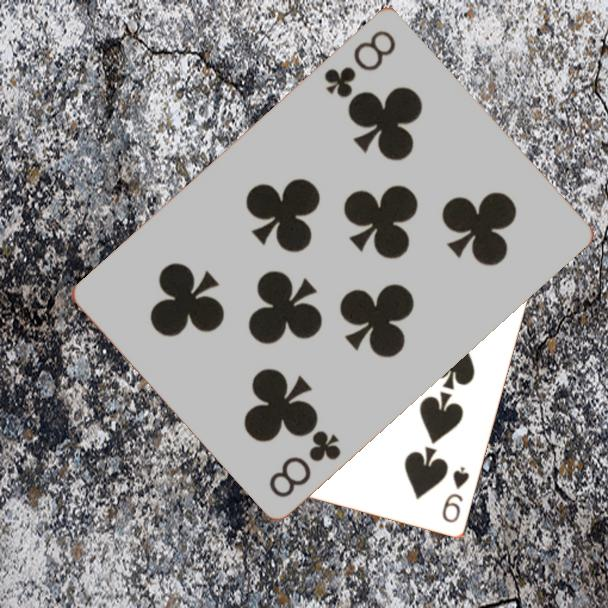c08: (320, 26, 399, 101), (265, 426, 344, 500)
s09: (439, 463, 472, 526)
